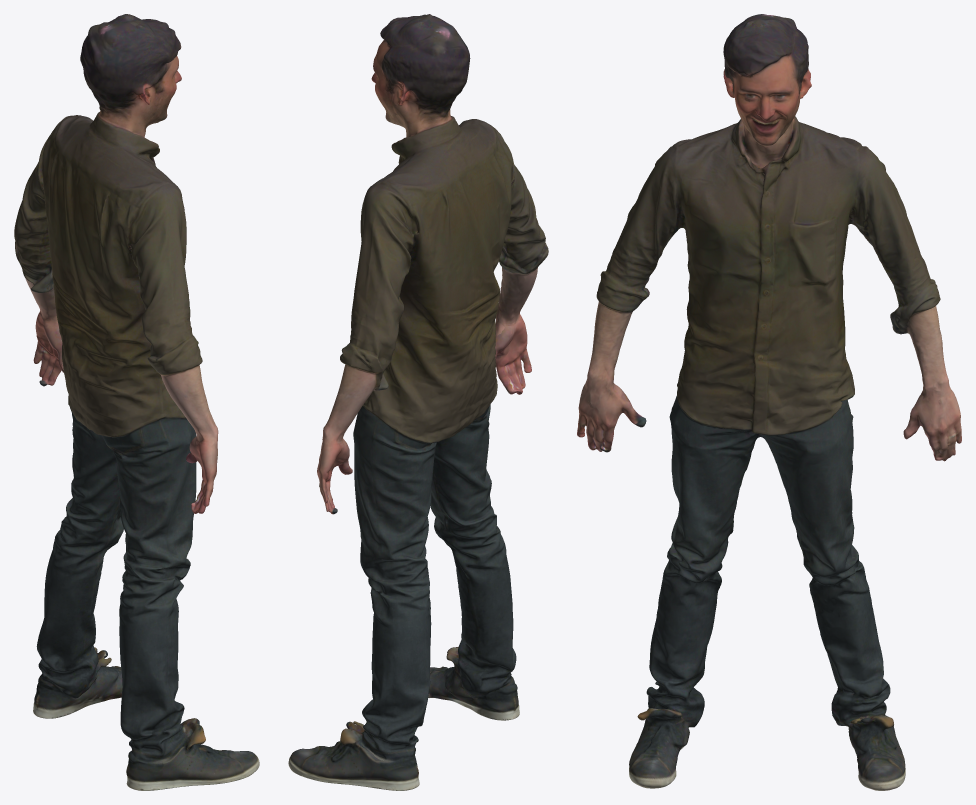
Rendered from MEN 3.glb.
3 renders of one model, left to right at view 1: azimuth 30°, elevation 25°; view 2: azimuth 150°, elevation 25°; view 3: azimuth 270°, elevation 25°, orthographic.
Visible parts, largest first — view 1: Object_2; view 2: Object_2; view 3: Object_2.
Boxes of the visible parts, box(x1,y1,x2,y2) form: Object_2: box(14, 14, 259, 790); Object_2: box(288, 14, 548, 790); Object_2: box(577, 14, 961, 790).
Size of the model in its own units: 0.3957 by 2.01 by 0.9567.
1 material, 1 textured.
